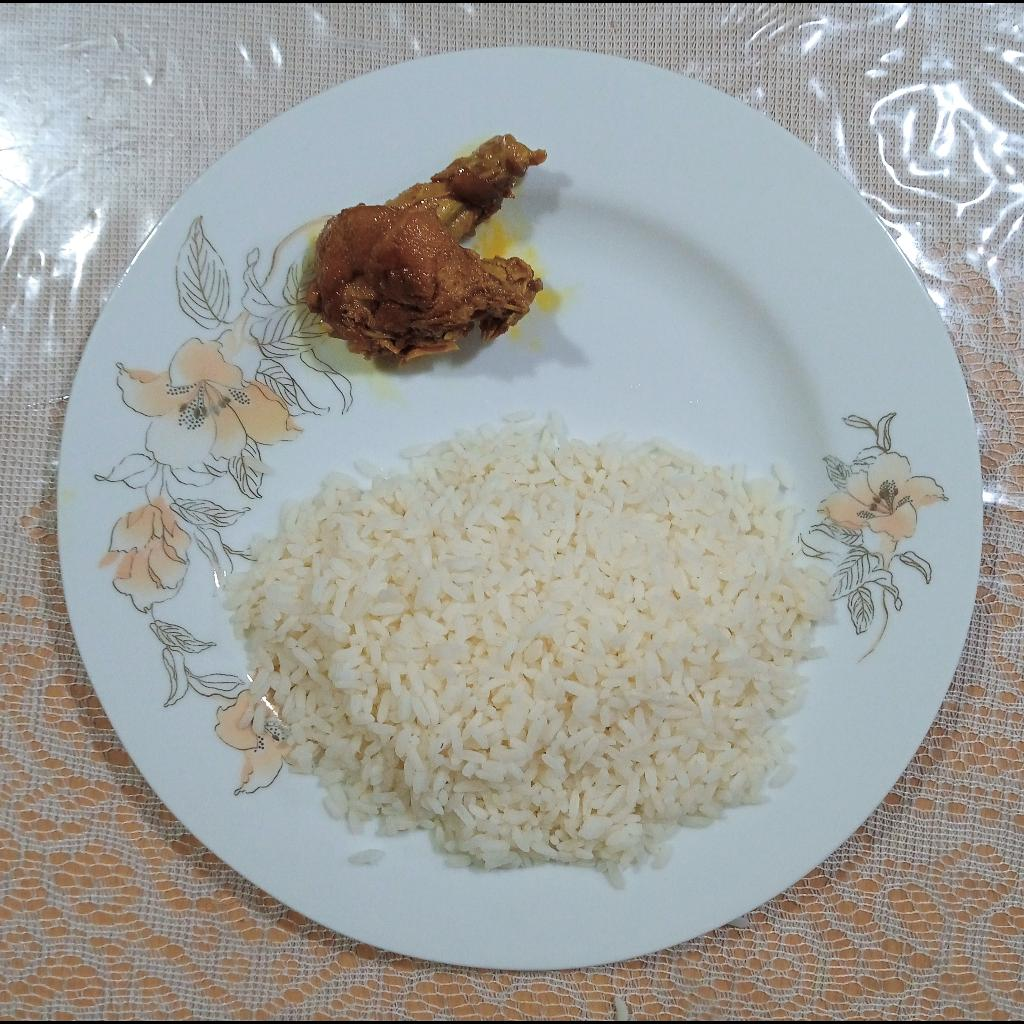chicken: (307, 132, 547, 364)
rice: (226, 413, 837, 883)
